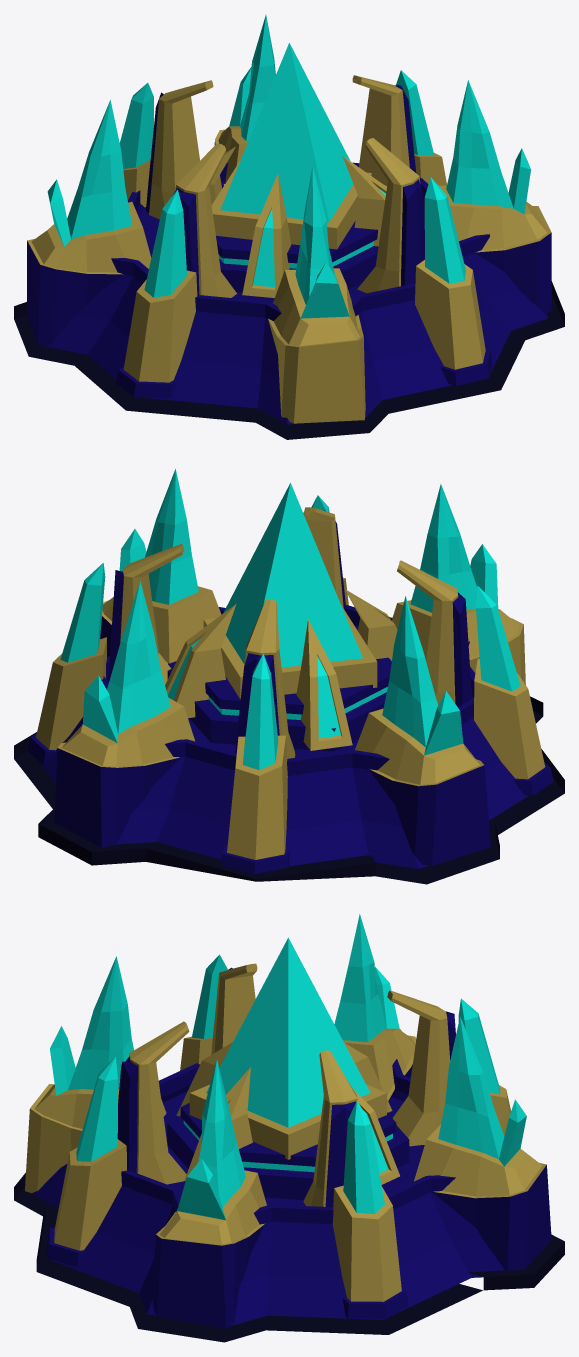
Rendered from nexus.fbx.
The picture shows the model from 3 angles, top to bottom: view 1: azimuth 30°, elevation 25°; view 2: azimuth 150°, elevation 25°; view 3: azimuth 270°, elevation 25°; orthographic projection. The views are drawn at different scales.
Visible parts, largest first — view 1: Cube.001; view 2: Cube.001; view 3: Cube.001.
Part boxes in pixels (<box>): Cube.001: <box>14,15,564,439</box>; Cube.001: <box>14,469,564,884</box>; Cube.001: <box>14,914,564,1342</box>.
Size of the model in its own units: 216 by 129 by 217.
